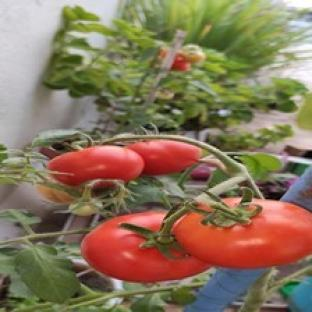Tomato: (173, 200, 311, 268), (81, 211, 210, 282), (48, 145, 143, 186), (127, 140, 201, 175), (37, 184, 75, 204), (182, 45, 206, 64), (70, 202, 98, 215), (170, 53, 190, 71)
